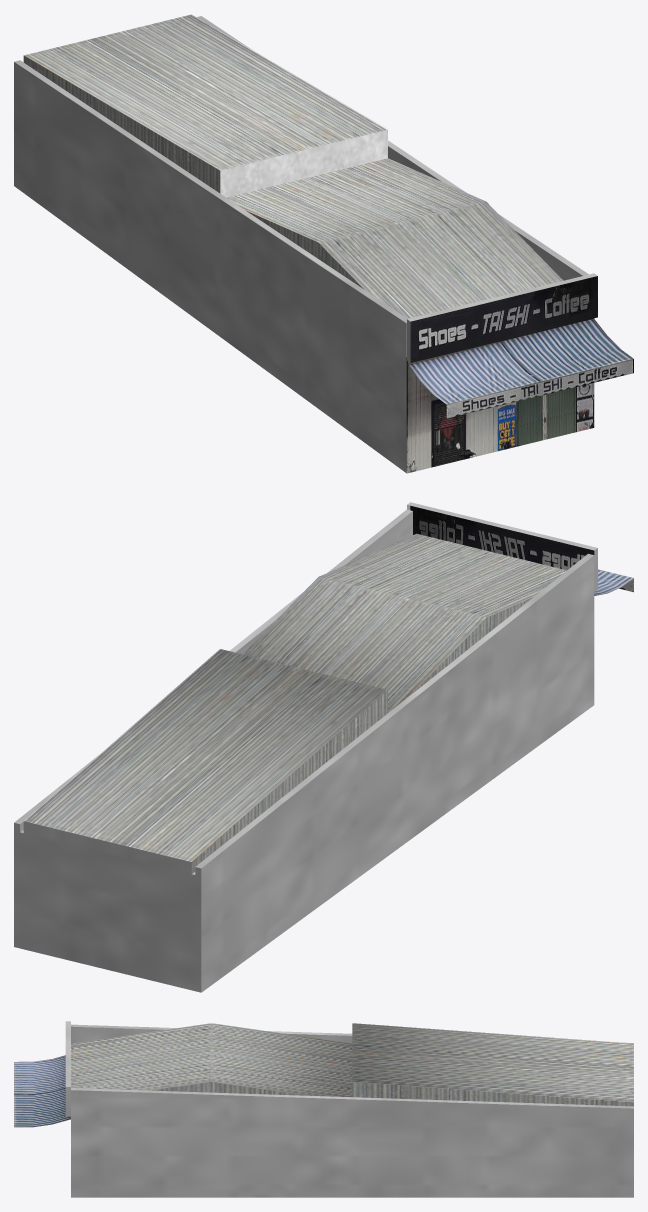
The picture shows the model from 3 angles, top to bottom: view 1: azimuth 30°, elevation 25°; view 2: azimuth 150°, elevation 25°; view 3: azimuth 270°, elevation 25°; orthographic projection. The views are drawn at different scales.
Visible parts, largest first — view 1: 5cda35ee28a55ef7c0301e1a.001; view 2: 5cda35ee28a55ef7c0301e1a.001; view 3: 5cda35ee28a55ef7c0301e1a.001.
Part boxes in pixels (x1=…): 5cda35ee28a55ef7c0301e1a.001: x1=14, y1=14, x2=633, y2=473; 5cda35ee28a55ef7c0301e1a.001: x1=14, y1=502, x2=633, y2=992; 5cda35ee28a55ef7c0301e1a.001: x1=14, y1=1021, x2=633, y2=1197.
Size of the model in its own units: 5.91 by 4.72 by 23.63.
Materials: 1 (1 with a texture image).
